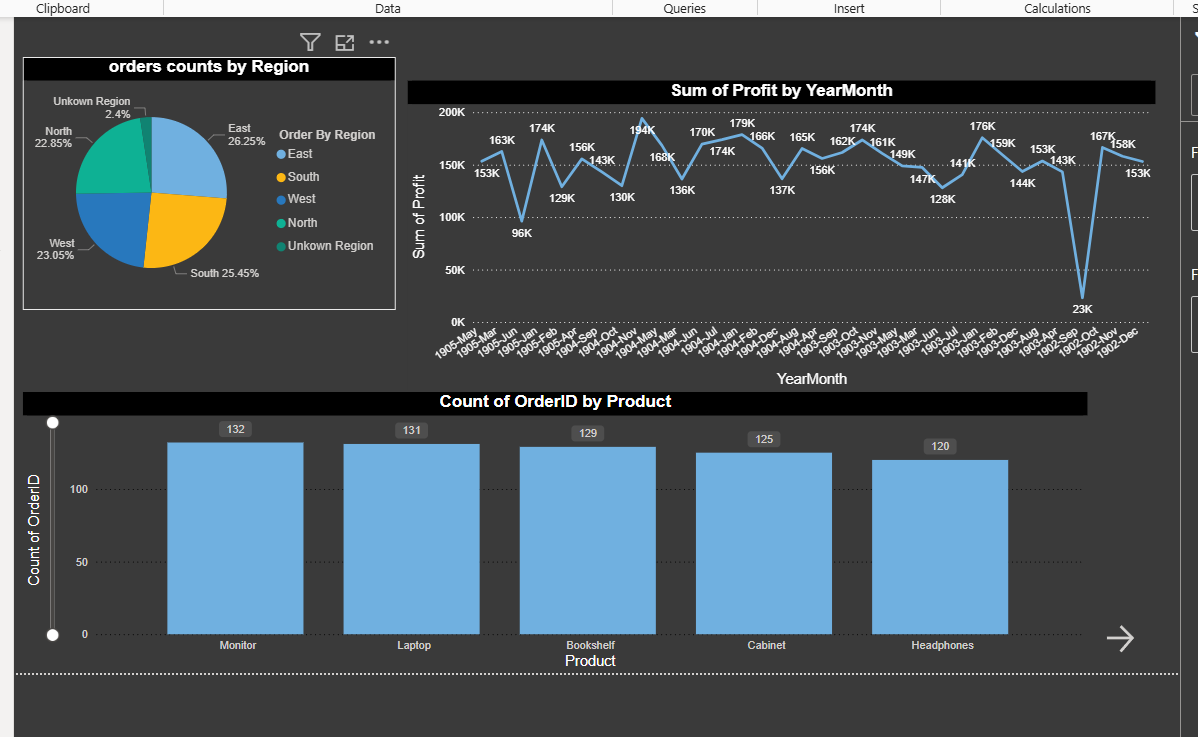

This screenshot's page, from the dashboard's own definition file:
{"tool":"powerbi","page":{"name":"Sales Data ","canvas":[1280,720],"ordinal":0},"visuals":[{"type":"pieChart","fields":{"Category":["Sales Data.Region"],"Y":["Sales Data.orders counts"]},"box":[9.6,43.9,408.9,277.2],"z":0},{"type":"clusteredColumnChart","fields":{"Category":["Sales Data.Product"],"Y":["Count(Sales Data.OrderID)"]},"box":[9.6,411.7,1169.1,308.7],"z":1000},{"type":"lineChart","fields":{"Y":["Sum(Sales Data.Profit)"],"Category":["Sales Data.YearMonth"]},"box":[432.2,70,820.6,341.7],"z":2000},{"type":"actionButton","box":[1193.8,662.8,72.7,39.8],"z":2001}]}

Visuals, with their boxes on the page's 1280x720 design canvas (x1, y1, x2, y2). These are canvas units, not pixel positions in the 1198x737 screenshot, which may show the page scaled, cropped or inside an application window:
pieChart - Sales Data.Region x Sales Data.orders counts: locate(10, 44, 418, 321)
clusteredColumnChart - Sales Data.Product x Count(Sales Data.OrderID): locate(10, 412, 1179, 720)
lineChart - Sum(Sales Data.Profit) x Sales Data.YearMonth: locate(432, 70, 1253, 412)
actionButton: locate(1194, 663, 1266, 703)
